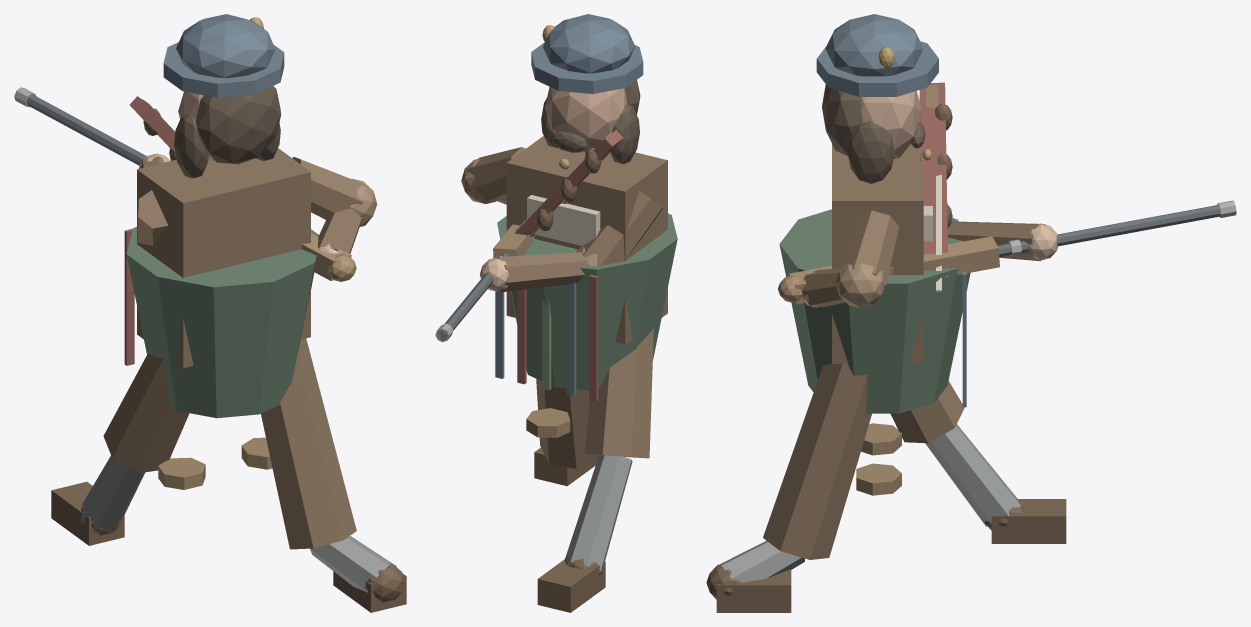
The model's file is jacobite_highlander_kneeling_musket.glb.
3 views of the same model, side by side, from view 1: azimuth 30°, elevation 25°; view 2: azimuth 150°, elevation 25°; view 3: azimuth 270°, elevation 25° (orthographic). The views are drawn at different scales.
Visible parts, largest first — view 1: brown, tartan_g, blue, hair, grey, leather, leather_lt, tartan_r, iron, wood_lt, brown_lt; view 2: brown, tartan_g, blue, leather, grey, tartan_r, skin, hair, linen, tartan_b, leather_lt, iron (+4 smaller); view 3: brown, tartan_g, blue, leather, grey, hair, tartan_r, wood_lt, leather_lt, skin, iron, brown_lt (+2 smaller).
Boxes of the visible parts, x1,y1,x2,y2 form: brown: (103, 148, 364, 549); tartan_g: (126, 226, 318, 418); blue: (163, 14, 284, 97); hair: (174, 86, 281, 178); grey: (81, 455, 396, 592); leather: (51, 108, 406, 612); leather_lt: (142, 99, 272, 489); tartan_r: (124, 96, 175, 365); iron: (27, 95, 146, 165); wood_lt: (301, 233, 356, 281); brown_lt: (349, 179, 377, 226); brown: (467, 136, 667, 468); tartan_g: (497, 213, 677, 390); blue: (531, 14, 643, 93); leather: (534, 148, 605, 612); grey: (565, 455, 632, 570); tartan_r: (515, 130, 623, 401); skin: (545, 87, 627, 153); hair: (541, 80, 640, 164); linen: (514, 195, 600, 245); tartan_b: (495, 282, 576, 396); leather_lt: (526, 133, 611, 437); iron: (437, 253, 508, 340); brown: (763, 144, 1045, 559); tartan_g: (779, 209, 970, 413); blue: (816, 14, 938, 96); leather: (706, 104, 1066, 612); grey: (720, 424, 1020, 582); hair: (822, 84, 925, 183); tartan_r: (919, 82, 948, 277); wood_lt: (778, 236, 999, 304); leather_lt: (856, 85, 938, 495); skin: (861, 91, 921, 159); iron: (997, 205, 1220, 256); brown_lt: (835, 263, 884, 307).
Size of the model in its own units: 0.6902 by 1.57 by 1.39.
